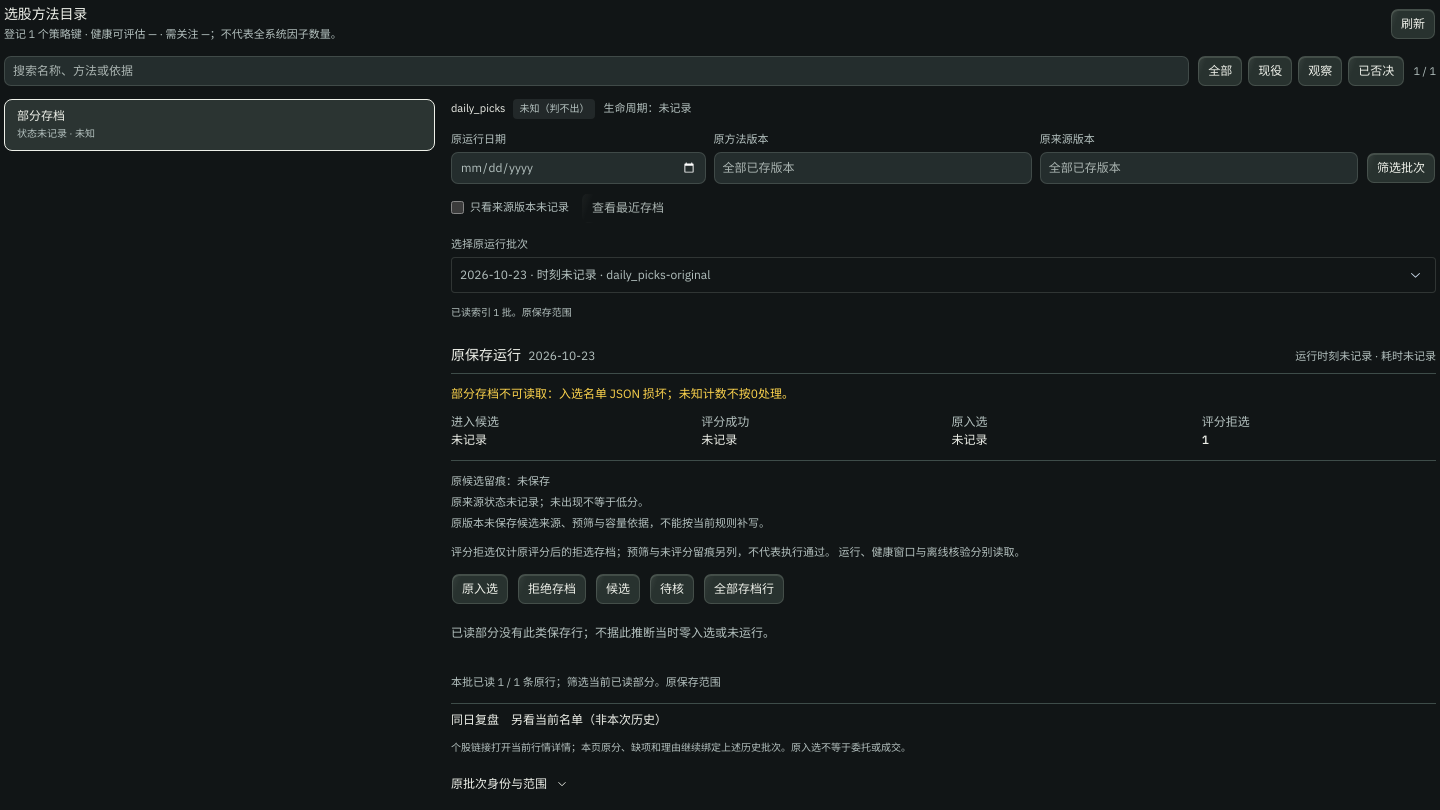
Test: 损坏的原名单明确提示并保留未知计数，不制造零入选
Expected: the text "部分存档不可读取：入选名单 JSON 损坏；未知计数不按0处理。" is shown, [451,386,794,401]
Expected: the message shows "入选名单 JSON 损坏", [559,386,667,401]
Step 1. Click the button "拒绝存档" → (552, 589), box [517,573,587,605]
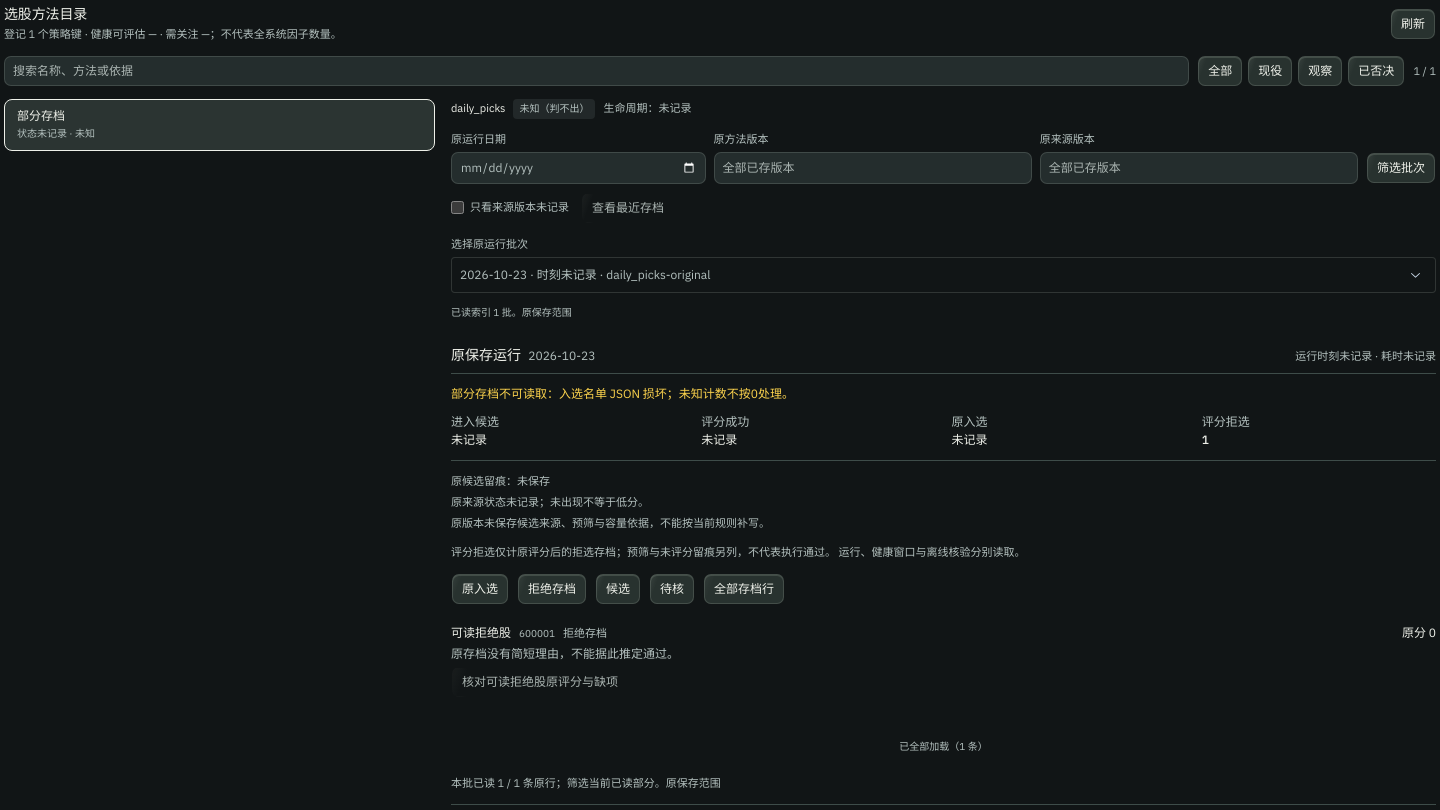
Expected: the link "可读拒绝股" is shown, [451,625,511,641]
Expected: the text "原分 0" is shown, [1402,625,1436,641]
